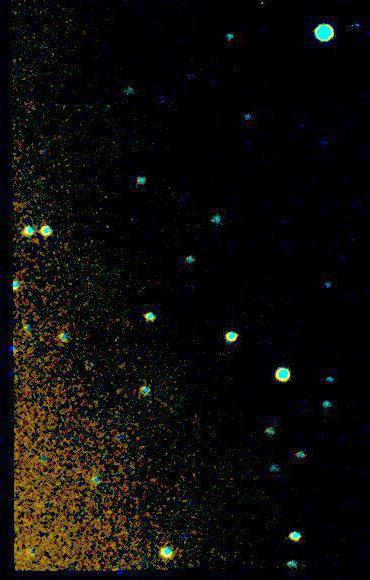star: (15, 315, 45, 345)
